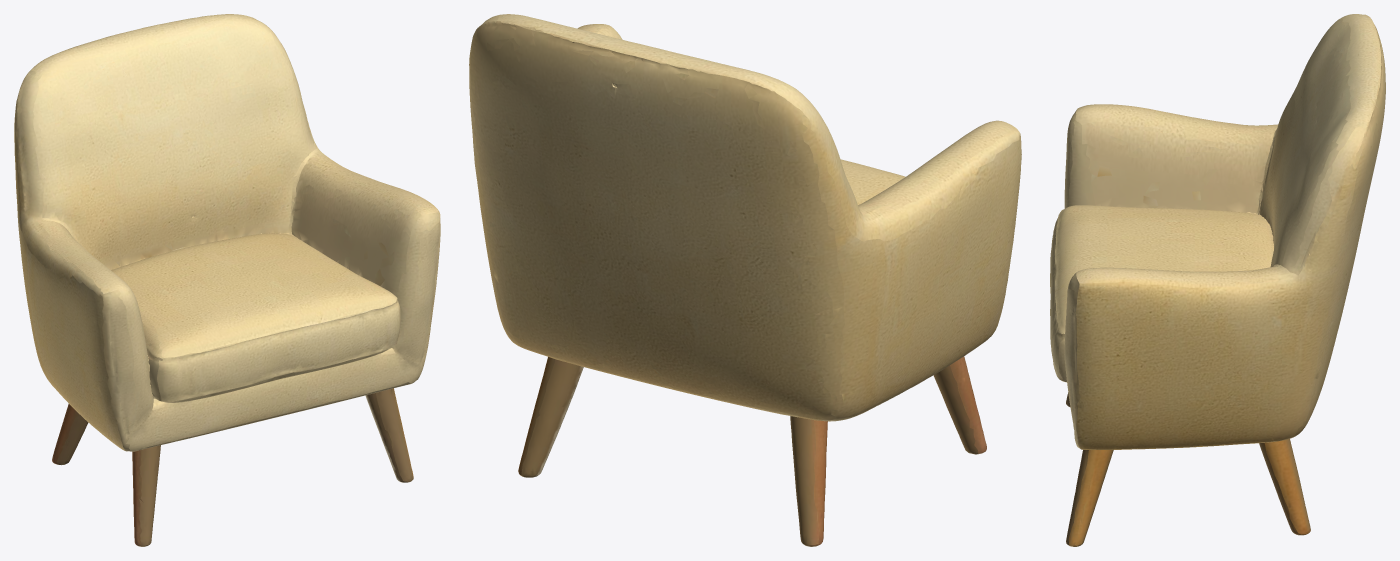
The model's file is L_ARMCHAIR.cyberpunk.glb.
The picture shows the model from 3 angles, left to right: view 1: azimuth 30°, elevation 25°; view 2: azimuth 150°, elevation 25°; view 3: azimuth 270°, elevation 25°; orthographic projection. The views are drawn at different scales.
Visible parts, largest first — view 1: geometry_0; view 2: geometry_0; view 3: geometry_0.
Boxes of the visible parts, x1,y1,x2,y2 form: geometry_0: (14, 14, 440, 546); geometry_0: (469, 14, 1021, 546); geometry_0: (1050, 14, 1385, 546).
Bounding box in the file's own units: 0.7728 × 0.82 × 0.6055.
1 material, 1 textured.
